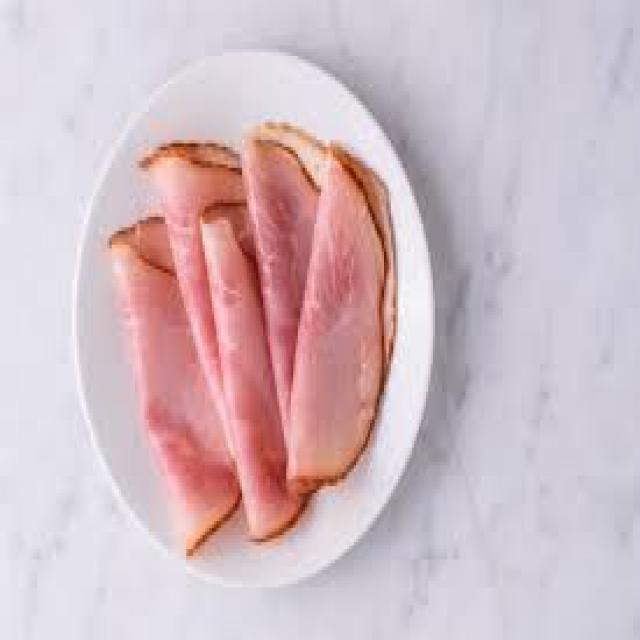pork belly: (112, 220, 240, 551), (286, 150, 386, 495), (200, 203, 300, 540), (142, 143, 247, 442), (244, 133, 321, 439)
